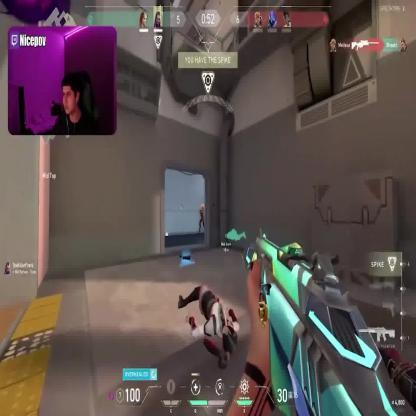enemy: (198, 204, 207, 235)
enemy_head: (201, 204, 205, 210)
